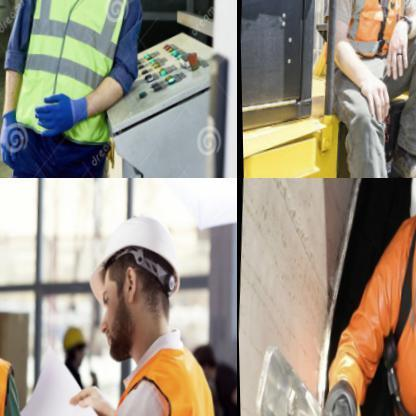vest: (9, 0, 144, 151), (352, 203, 415, 415), (99, 324, 229, 415), (340, 0, 409, 61)
